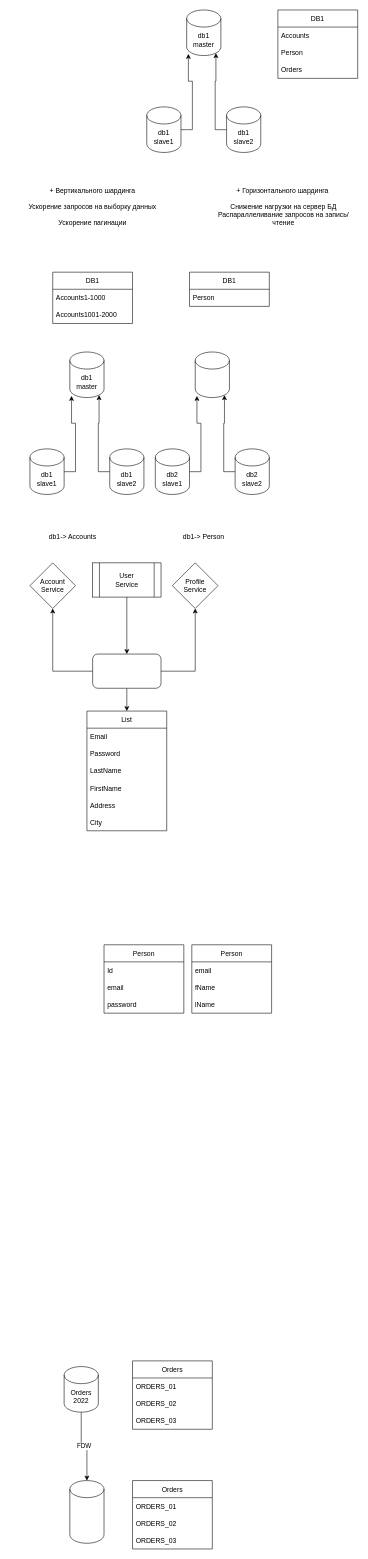
The diagram is 368 pixels wide and 1559 high, and some of its shapes have lost their labels. The centre of each missing label's shape, as x and y in pixels:
db2 master: the point at 212,374
Frontend: the point at 126,671
Orders 2000 .... 2021: the point at 86,1511
